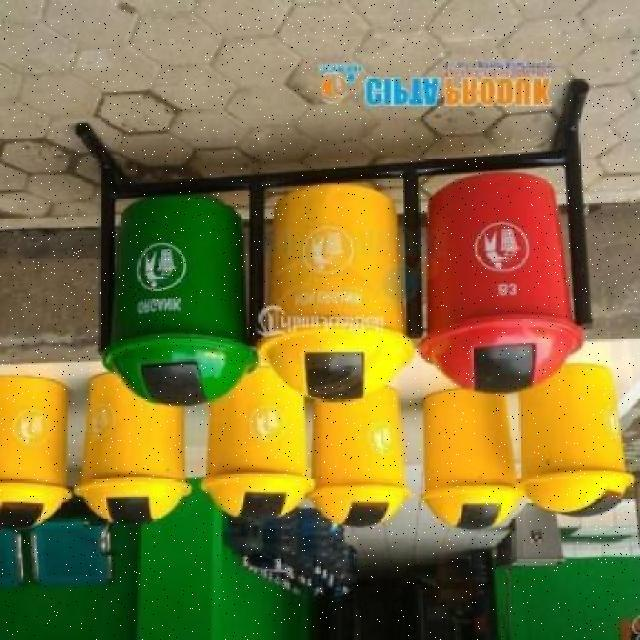garbage container: (254, 176, 419, 412), (418, 170, 591, 395), (102, 180, 263, 414), (76, 369, 201, 529), (199, 366, 318, 526), (521, 362, 640, 522), (306, 385, 419, 533), (417, 389, 522, 537), (2, 376, 78, 538)
